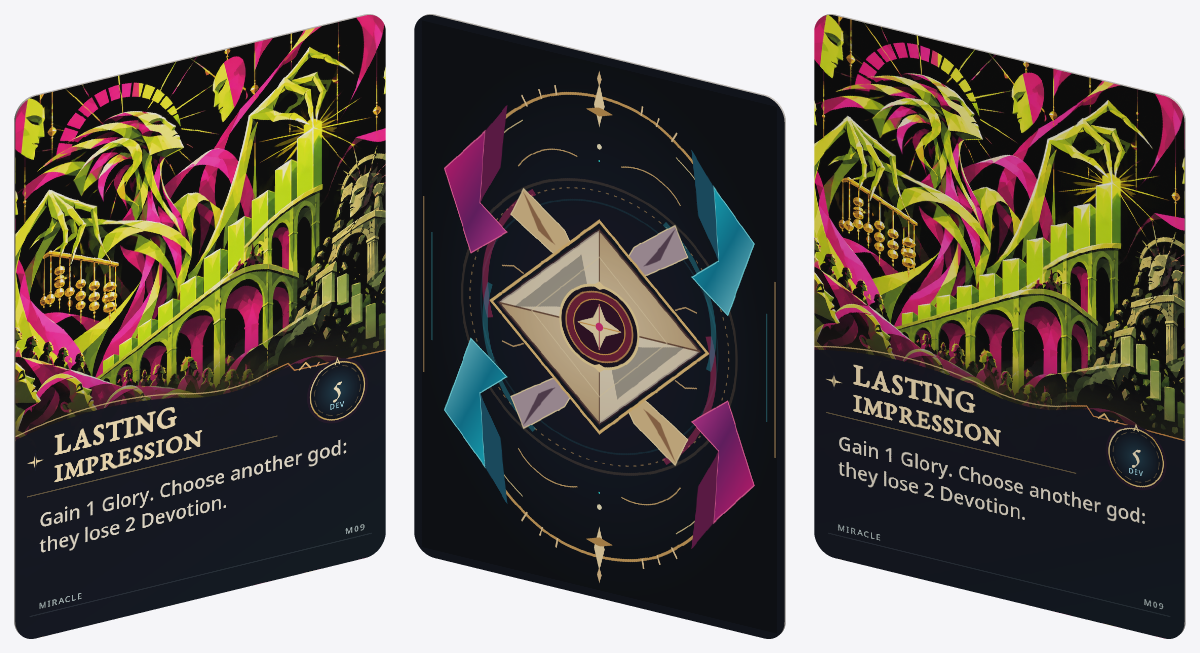
The model's file is SGLD_M09_MIRACLE_POKER_CARD_3D_v0.2-P.glb.
3 renders of one model, left to right at view 1: azimuth 30°, elevation 25°; view 2: azimuth 150°, elevation 25°; view 3: azimuth 330°, elevation 25°, orthographic.
Visible parts, largest first — view 1: M09_FRONT, M09_EDGE; view 2: M09_BACK, M09_EDGE; view 3: M09_FRONT, M09_EDGE.
Boxes of the visible parts, left/top/right/bottom form: M09_FRONT: left=15, top=15, right=385, bottom=638; M09_EDGE: left=14, top=14, right=377, bottom=633; M09_BACK: left=414, top=15, right=784, bottom=638; M09_EDGE: left=422, top=14, right=785, bottom=633; M09_FRONT: left=814, top=15, right=1184, bottom=638; M09_EDGE: left=822, top=14, right=1185, bottom=633.
Size of the model in its own units: 0.0635 by 0.0889 by 0.00038.
Materials: 3 (2 with a texture image).
